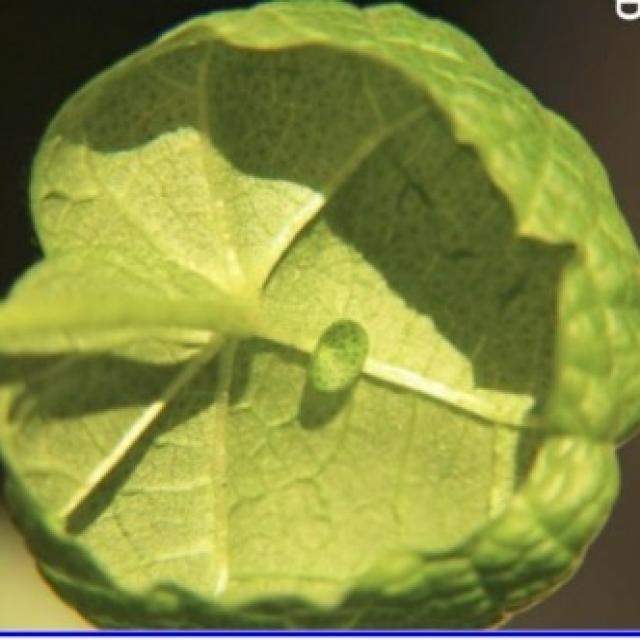Leaf Curl Virus: (81, 90, 569, 545)
